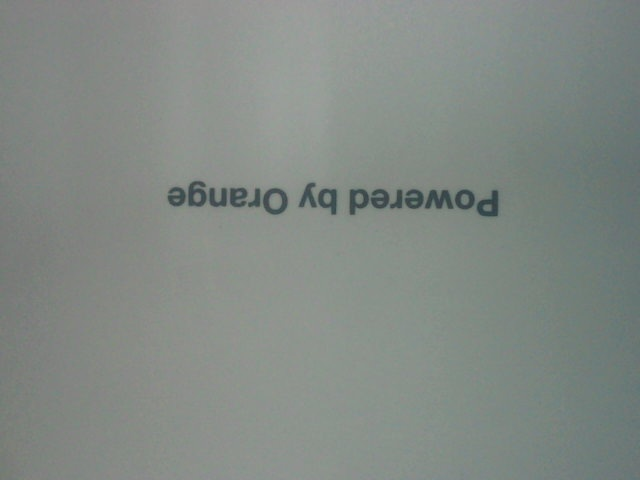AS_PowerByOrange: (158, 164, 501, 230)
